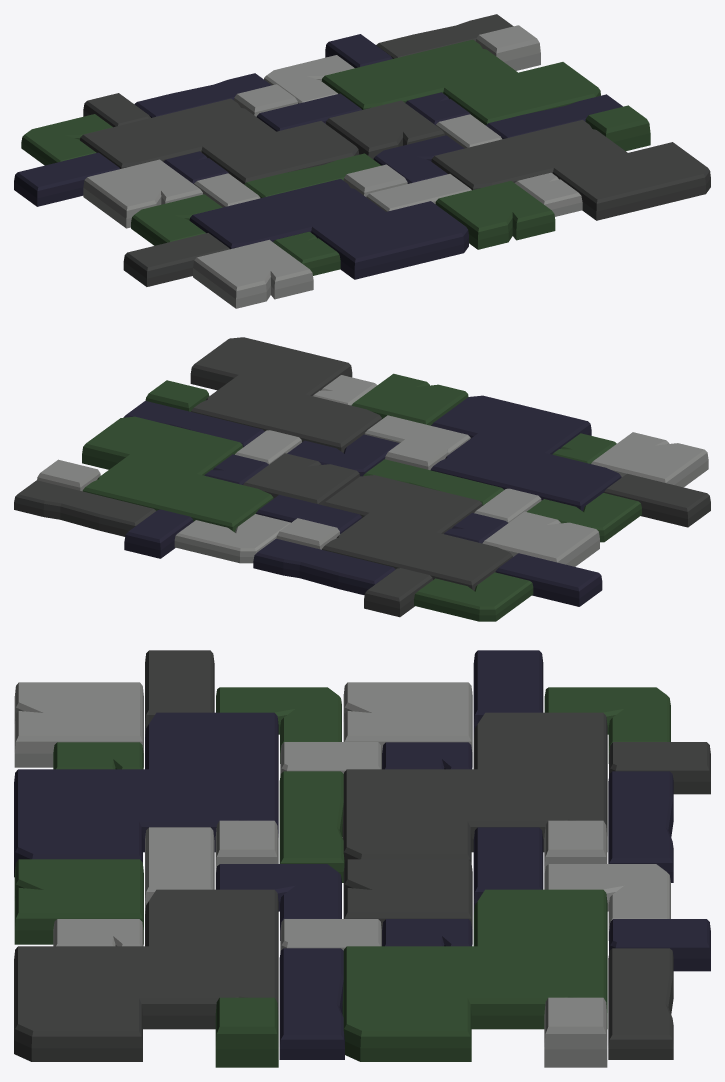
Rendered from Floor4tiles.fbx.
3 renders of one model, top to bottom at view 1: azimuth 30°, elevation 25°; view 2: azimuth 150°, elevation 25°; view 3: azimuth 270°, elevation 25°, orthographic. The views are drawn at different scales.
Parts seen in each view (by area): view 1: Plane.018, Plane.019, Plane.020, Plane.021; view 2: Plane.020, Plane.021, Plane.018, Plane.019; view 3: Plane.021, Plane.019, Plane.020, Plane.018.
Boxes of the visible parts, bbox=[...] form: Plane.018: bbox=[123, 153, 468, 308]; Plane.019: bbox=[366, 94, 710, 249]; Plane.020: bbox=[14, 73, 359, 228]; Plane.021: bbox=[256, 14, 600, 159]; Plane.020: bbox=[253, 475, 602, 621]; Plane.021: bbox=[14, 416, 361, 563]; Plane.018: bbox=[363, 395, 710, 542]; Plane.019: bbox=[123, 337, 470, 476]; Plane.021: bbox=[342, 827, 710, 1067]; Plane.019: bbox=[14, 827, 381, 1067]; Plane.020: bbox=[342, 650, 710, 889]; Plane.018: bbox=[14, 650, 381, 889].
Bounding box in the file's own units: 2618 × 123 × 1998.
